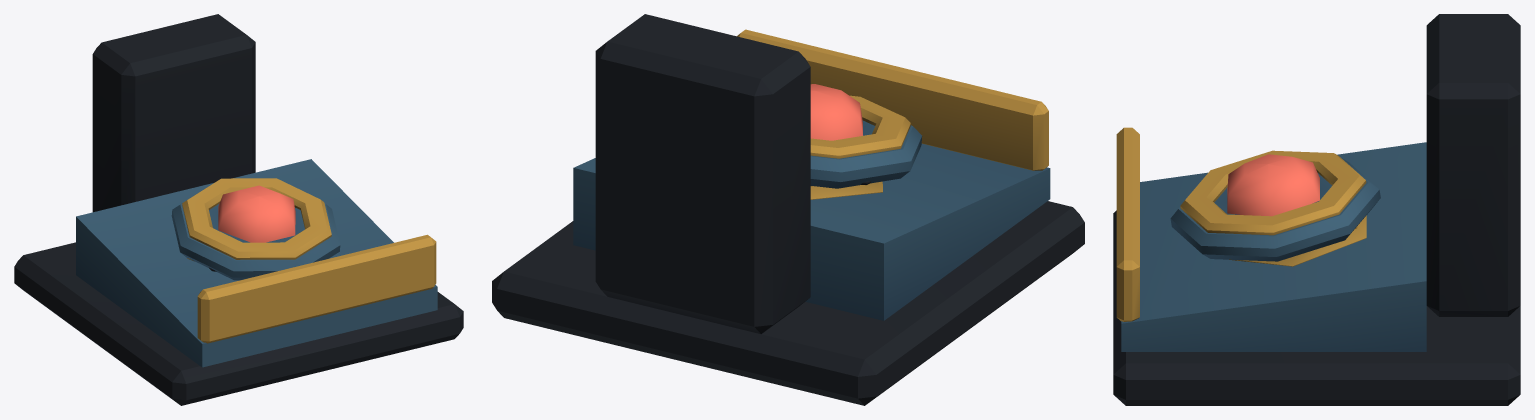
Rendered from R4X_ExplosiveTrapDeployer_LOD1.glb.
3 renders of one model, left to right at view 1: azimuth 30°, elevation 25°; view 2: azimuth 150°, elevation 25°; view 3: azimuth 270°, elevation 25°, orthographic. The views are drawn at different scales.
Visible parts, largest first — view 1: R4X_ExplosiveTrapDeployer_LOD1; view 2: R4X_ExplosiveTrapDeployer_LOD1; view 3: R4X_ExplosiveTrapDeployer_LOD1.
Boxes of the visible parts, x1,y1,x2,y2 form: R4X_ExplosiveTrapDeployer_LOD1: (14, 14, 463, 405); R4X_ExplosiveTrapDeployer_LOD1: (492, 14, 1084, 405); R4X_ExplosiveTrapDeployer_LOD1: (1113, 14, 1520, 405).
Size of the model in its own units: 0.52 by 0.39 by 0.52.
